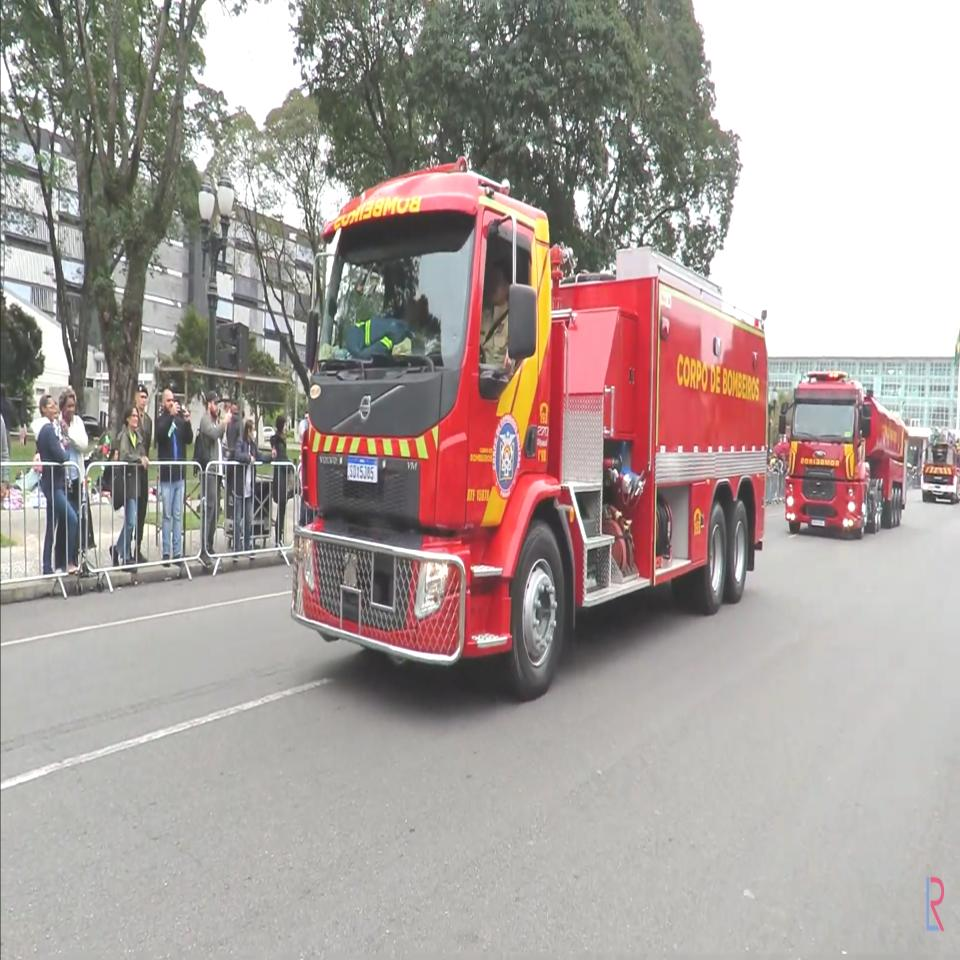bombeiro: (289, 155, 771, 704), (777, 366, 910, 542)
